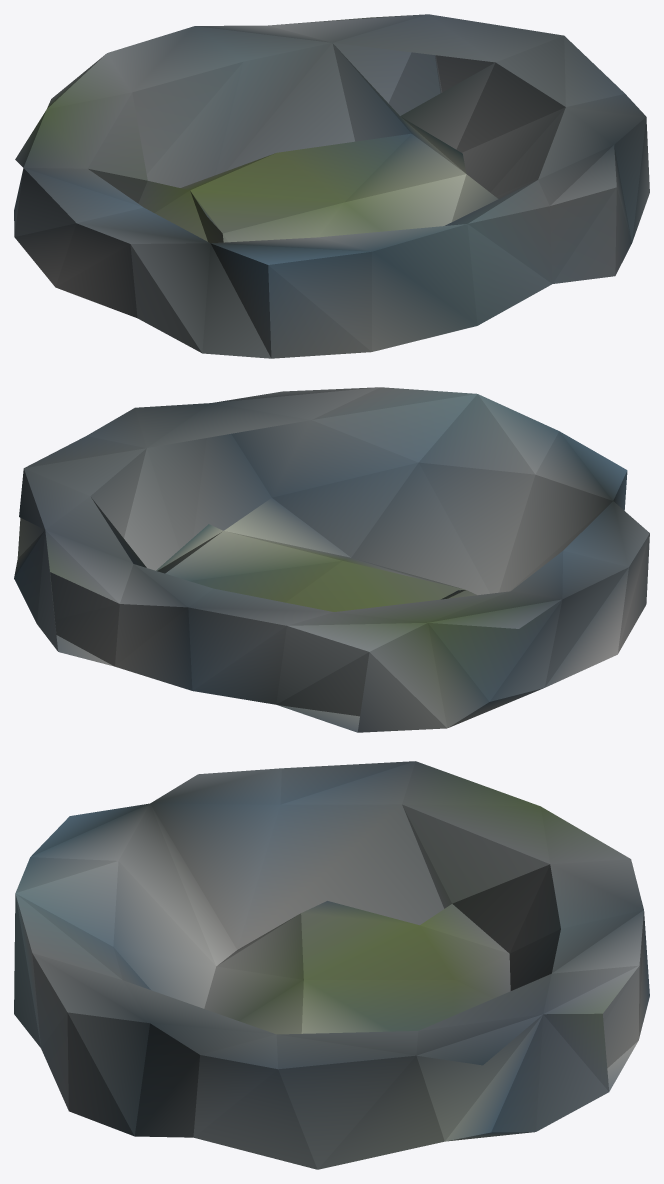
Rendered from stadium-bowl.glb.
3 views of the same model, one above another, from view 1: azimuth 30°, elevation 25°; view 2: azimuth 150°, elevation 25°; view 3: azimuth 270°, elevation 25° (orthographic). The views are drawn at different scales.
Parts seen in each view (by area): view 1: stadium-bowl-far; view 2: stadium-bowl-far; view 3: stadium-bowl-far.
Boxes of the visible parts, bbox=[...] form: stadium-bowl-far: bbox=[14, 14, 649, 358]; stadium-bowl-far: bbox=[14, 387, 649, 732]; stadium-bowl-far: bbox=[14, 761, 649, 1169].
Size of the model in its own units: 60 by 12.22 by 53.35.
